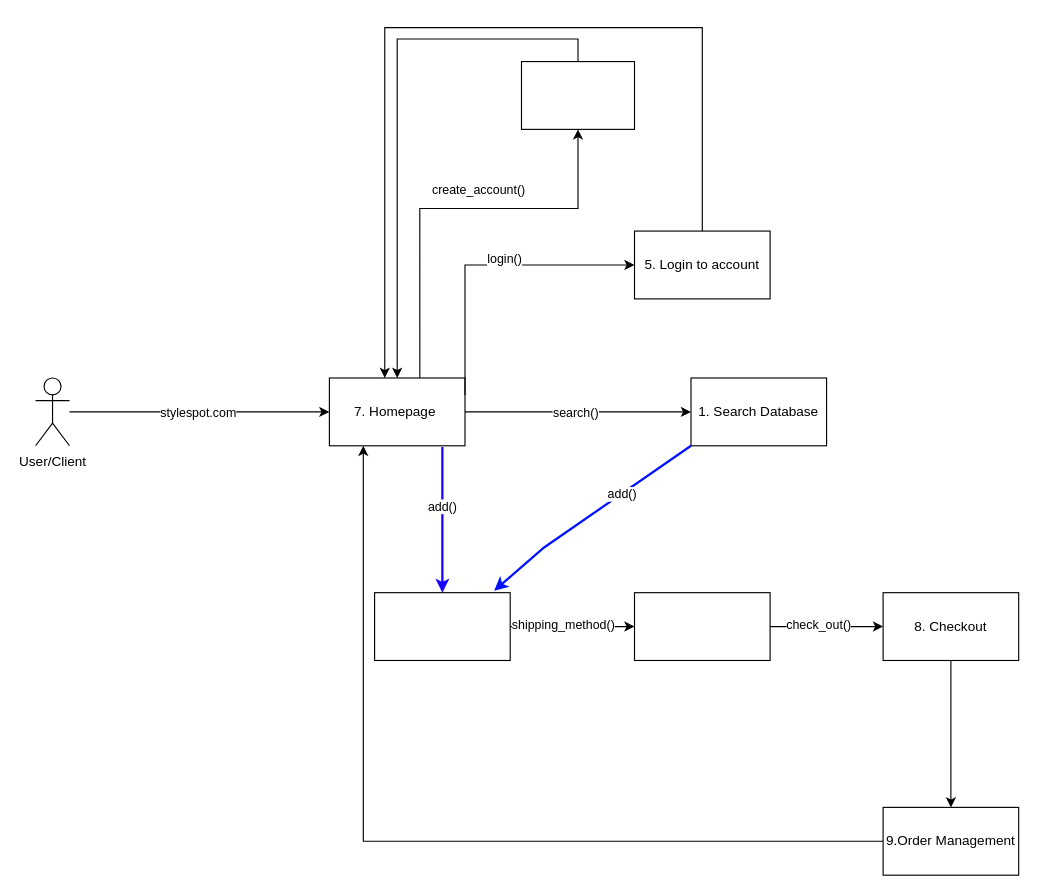
Some shapes in this 1038 by 895 pixel diagram are drawn without their labels. Here are the shapes that lost their labels. From the top down, the box of each, then its label:
(520, 60, 634, 129): 3. Create an Account
(373, 592, 510, 660): 2. Add to shopping cart
(633, 592, 770, 660): 4. Choose delivery or Pickup
